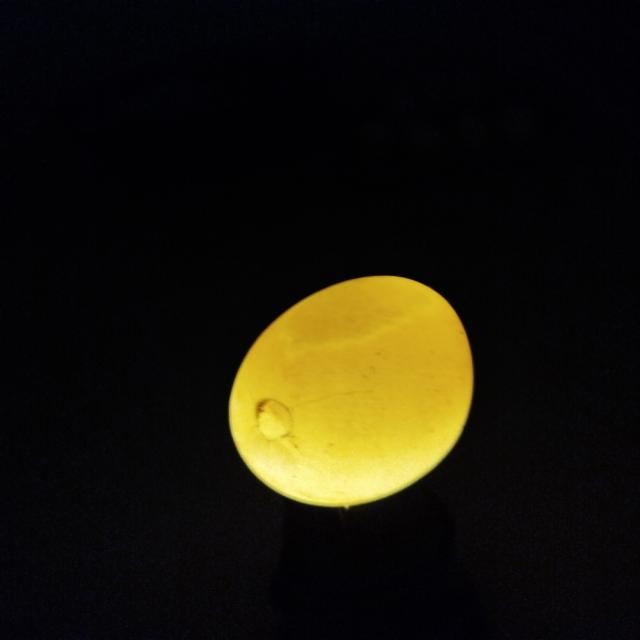Camara de Ar: (271, 275, 445, 348)
Rachadura: (254, 393, 364, 452)
